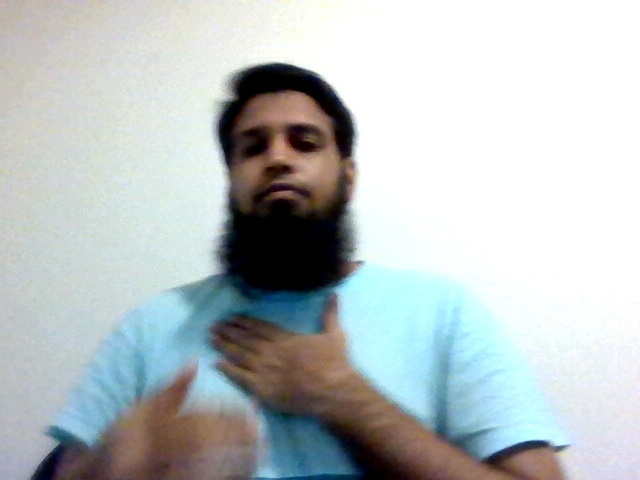please: (205, 291, 360, 422)
